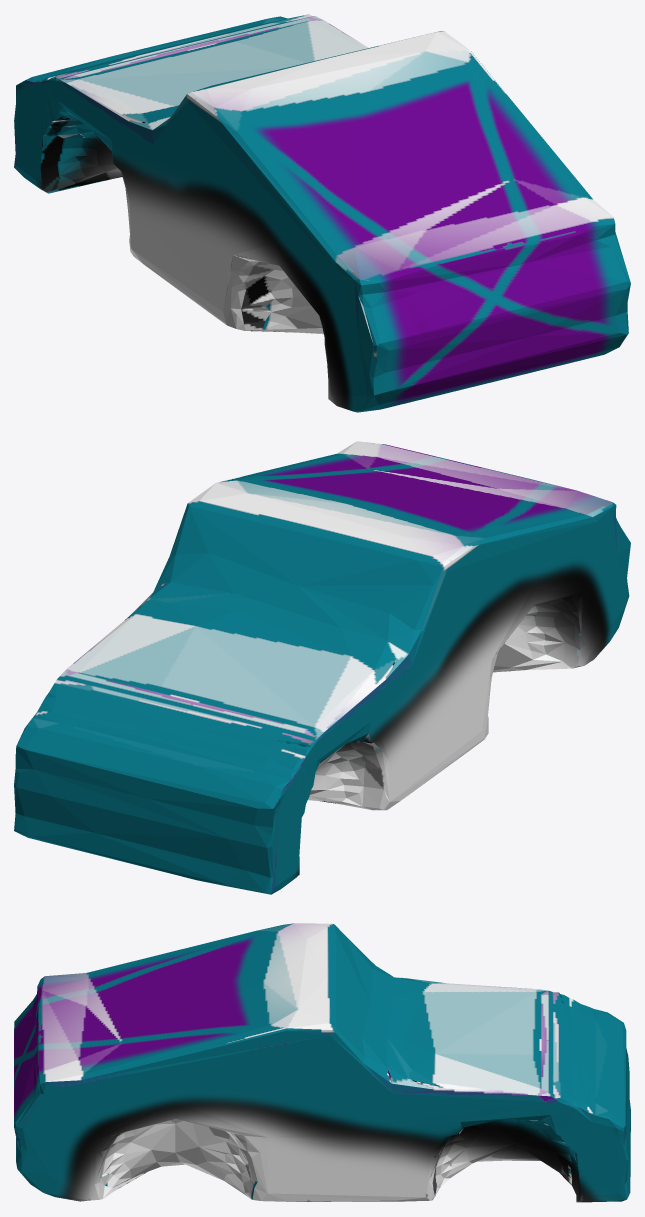
Rendered from muscle.fbx.
3 views of the same model, one above another, from view 1: azimuth 30°, elevation 25°; view 2: azimuth 150°, elevation 25°; view 3: azimuth 270°, elevation 25° (orthographic). The views are drawn at different scales.
Visible parts, largest first — view 1: Cube; view 2: Cube; view 3: Cube.
Boxes of the visible parts, x1,y1,x2,y2 form: Cube: (14,14,630,412); Cube: (14,441,630,894); Cube: (14,923,630,1202).
Bounding box in the file's own units: 504 × 393 × 1227.
